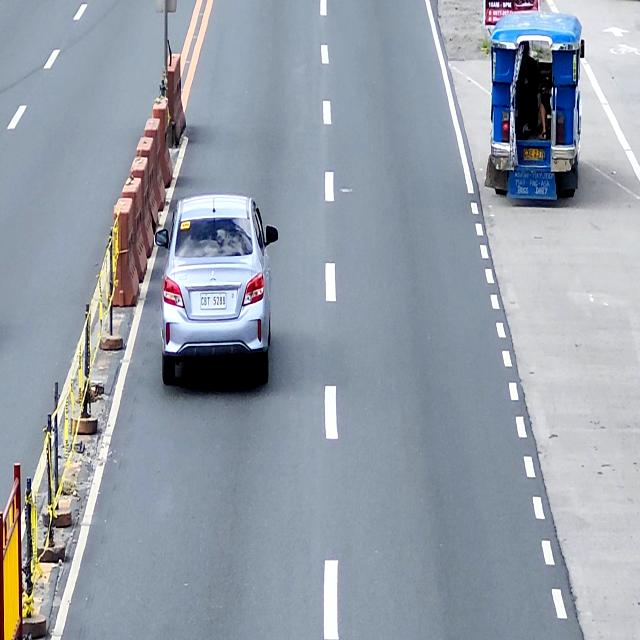Car: (155, 193, 278, 385)
Jeep: (484, 10, 585, 202)
License-Plate: (199, 290, 227, 310), (523, 146, 545, 164)
